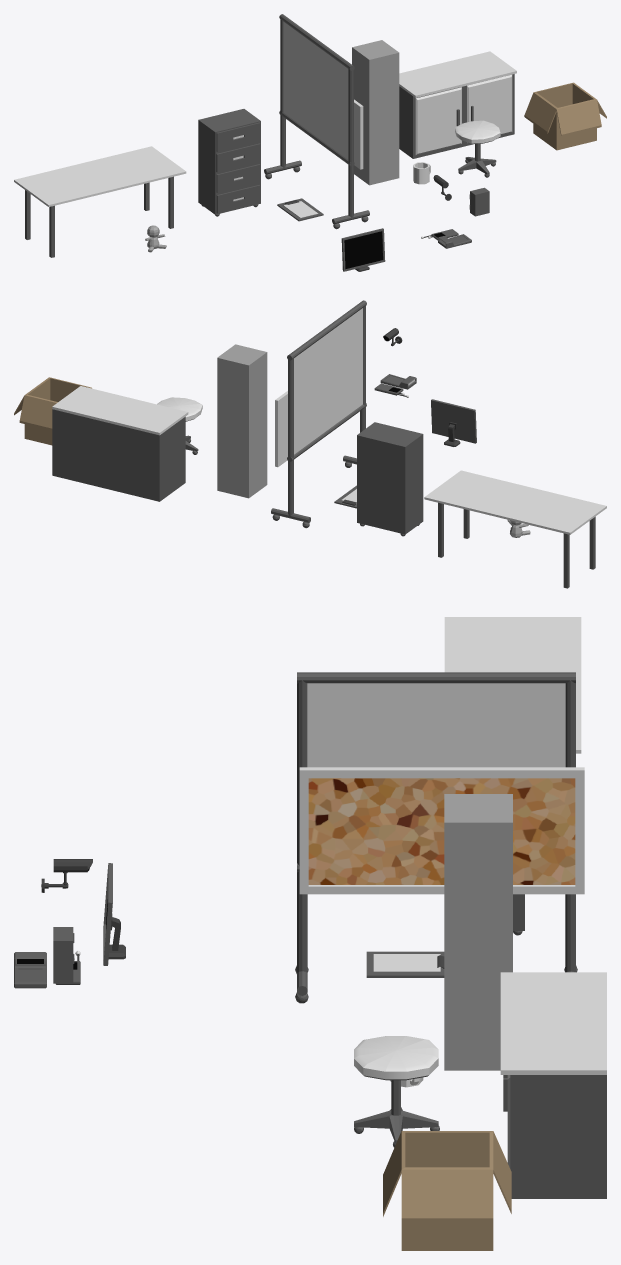
The model's file is ScienceProps.fbx.
3 renders of one model, top to bottom at view 1: azimuth 30°, elevation 25°; view 2: azimuth 150°, elevation 25°; view 3: azimuth 270°, elevation 25°, orthographic. The views are drawn at different scales.
Parts seen in each view (by area): view 1: Counters, Whiteboard, Table, filingCabinet, PersonScale, CardboardBox, ComputerMonitor, Chair, CorkBoard, Clipboard, TechBox, Mug; view 2: Counters, Whiteboard, PersonScale, Table, filingCabinet, CardboardBox, ComputerMonitor, CorkBoard, Chair; view 3: CorkBoard, Whiteboard, Counters, PersonScale, CardboardBox, Table, Chair, Clipboard, handheldDevice2, ComputerMonitor, TechBox.
Boxes of the visible parts, left/top/right/bottom form: Counters: left=399, top=51, right=516, bottom=158; Whiteboard: left=264, top=14, right=369, bottom=229; Table: left=14, top=146, right=186, bottom=257; filingCabinet: left=198, top=109, right=260, bottom=216; PersonScale: left=352, top=40, right=399, bottom=185; CardboardBox: left=524, top=82, right=606, bottom=150; ComputerMonitor: left=341, top=228, right=385, bottom=271; Chair: left=455, top=120, right=500, bottom=177; CorkBoard: left=354, top=99, right=363, bottom=169; Clipboard: left=277, top=198, right=323, bottom=221; TechBox: left=469, top=188, right=489, bottom=216; Mug: left=413, top=162, right=430, bottom=184; Counters: left=52, top=386, right=188, bottom=501; Whiteboard: left=271, top=300, right=366, bottom=528; PersonScale: left=217, top=344, right=267, bottom=498; Table: left=424, top=470, right=606, bottom=588; filingCabinet: left=357, top=422, right=423, bottom=536; CardboardBox: left=14, top=377, right=91, bottom=445; ComputerMonitor: left=431, top=399, right=476, bottom=446; CorkBoard: left=275, top=391, right=287, bottom=467; Chair: left=157, top=397, right=202, bottom=454; CorkBoard: left=299, top=767, right=584, bottom=894; Whiteboard: left=295, top=672, right=577, bottom=1003; Counters: left=500, top=972, right=606, bottom=1198; PersonScale: left=444, top=794, right=512, bottom=1070; CardboardBox: left=383, top=1131, right=511, bottom=1250; Table: left=444, top=617, right=581, bottom=753; Chair: left=354, top=1036, right=439, bottom=1147; Clipboard: left=366, top=951, right=444, bottom=977; handheldDevice2: left=14, top=952, right=46, bottom=988; ComputerMonitor: left=103, top=863, right=125, bottom=965; TechBox: left=53, top=927, right=74, bottom=983.
Bounding box in the file's own units: 9.13 × 2.56 × 4.34.
8 materials, 1 textured.
